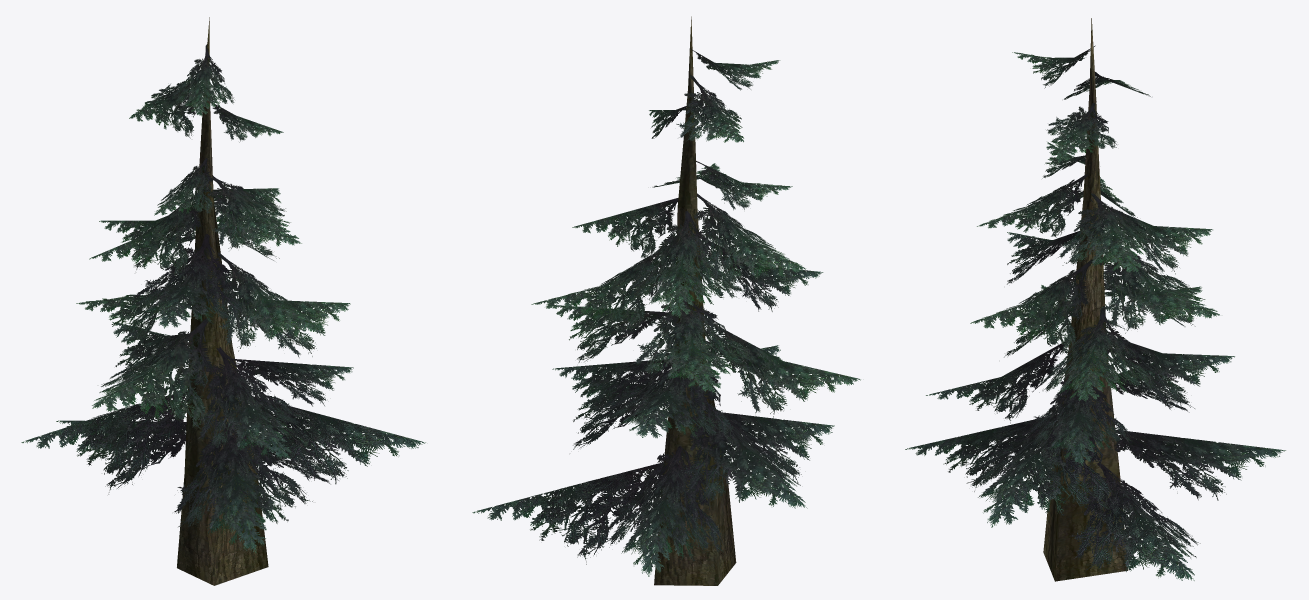
The model's file is yw_cangshan_songshu02.FBX.
3 views of the same model, side by side, from view 1: azimuth 30°, elevation 25°; view 2: azimuth 150°, elevation 25°; view 3: azimuth 270°, elevation 25° (orthographic). The views are drawn at different scales.
Visible parts, largest first — view 1: yw_cangshan_songshu02; view 2: yw_cangshan_songshu02; view 3: yw_cangshan_songshu02.
Part boxes in pixels (x1,y1,x2,y2): yw_cangshan_songshu02: (21,17,425,585); yw_cangshan_songshu02: (472,16,860,585); yw_cangshan_songshu02: (905,18,1285,581).
Bounding box in the file's own units: 505 × 803 × 527.
